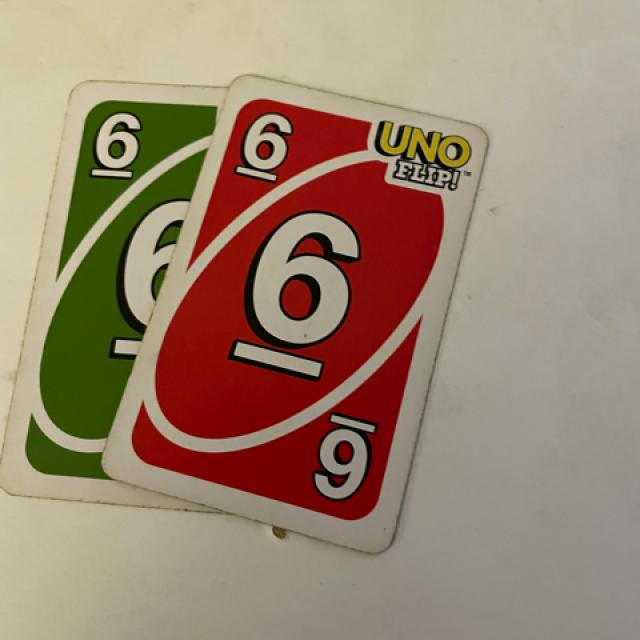lgreen-6: (77, 96, 156, 194)
lred-6: (230, 95, 308, 194)
